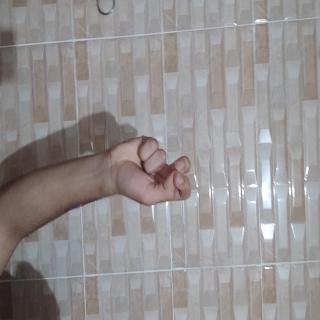QAAF: (100, 166, 158, 291)
